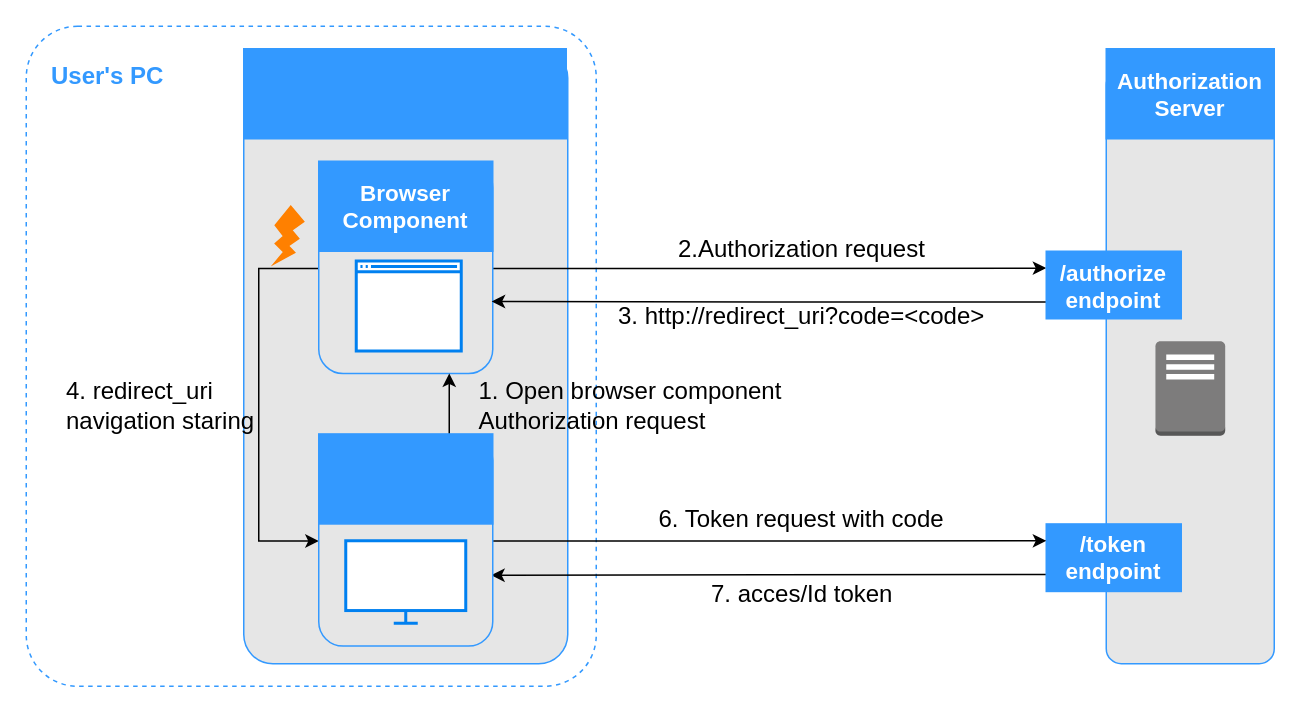
This 1301x713 diagram has some shape labels left out. The shapes that lost their labels are listed below. From the top down, each one's centre as x and y in pixels, then its label:
(404,93): Desktop Application
(405,478): Application Loggic
